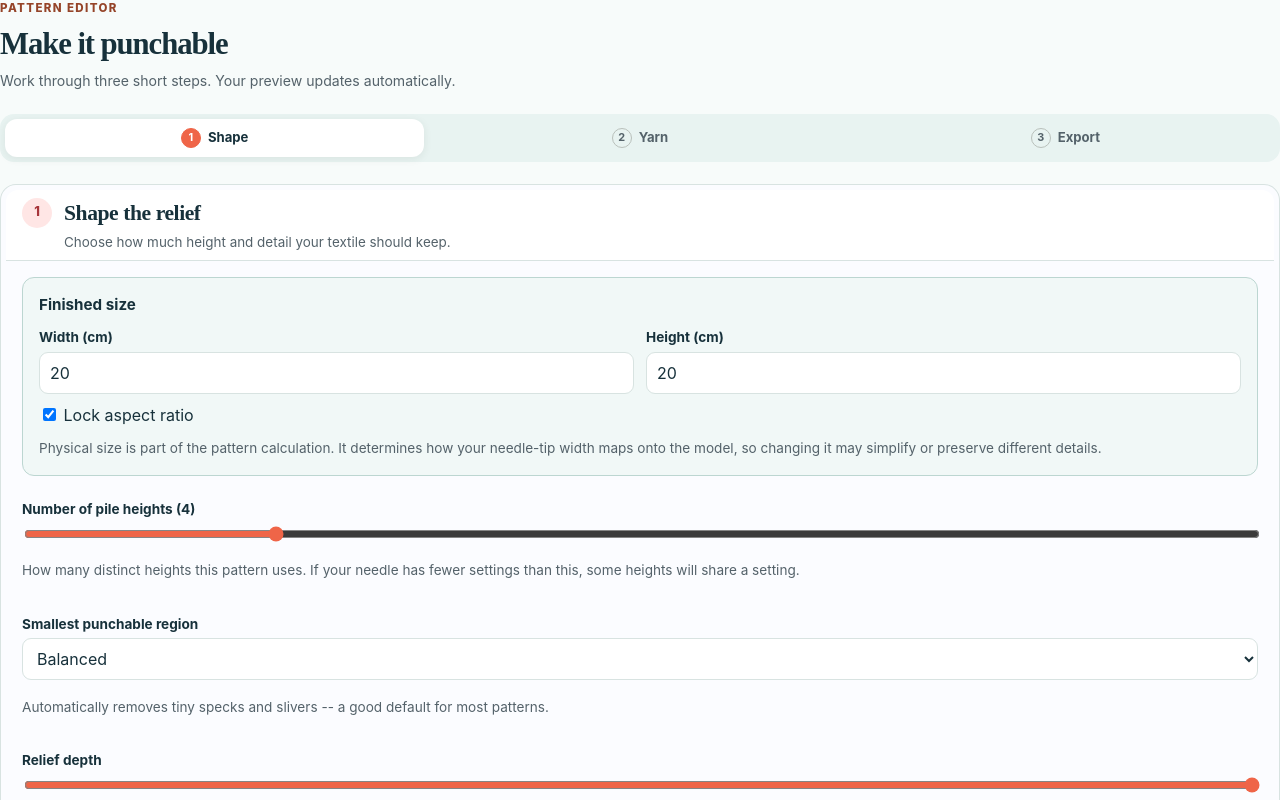
it: Workspace › shows clear generating and export placeholders before the first relief generates
Click the button "3 Export" at (1065, 138), box [856,119,1275,157]
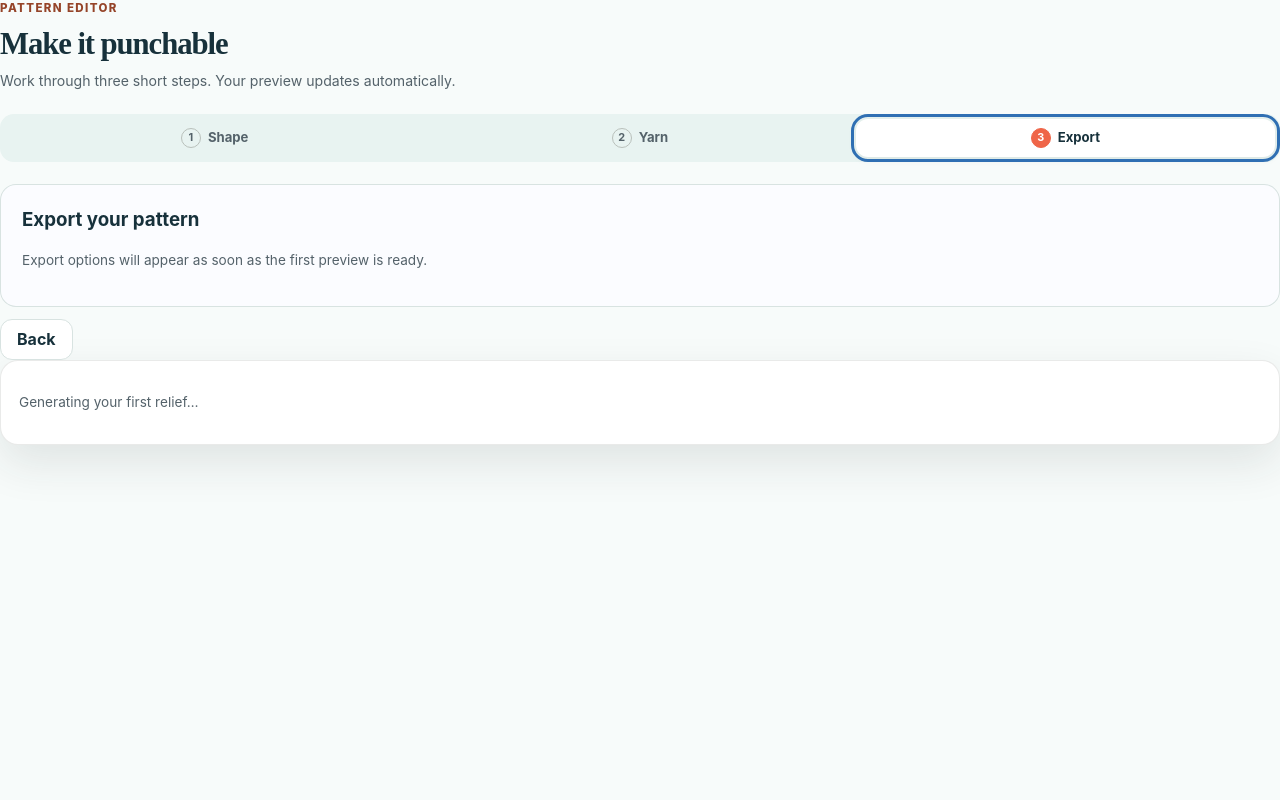
Check: the text "Export options will appear as soon as" is shown, box [22,252,427,268]
